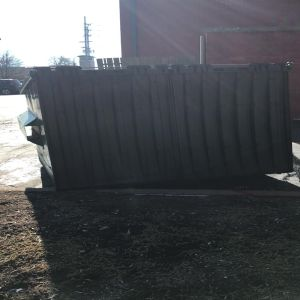Dumpster: (16, 60, 296, 190)
